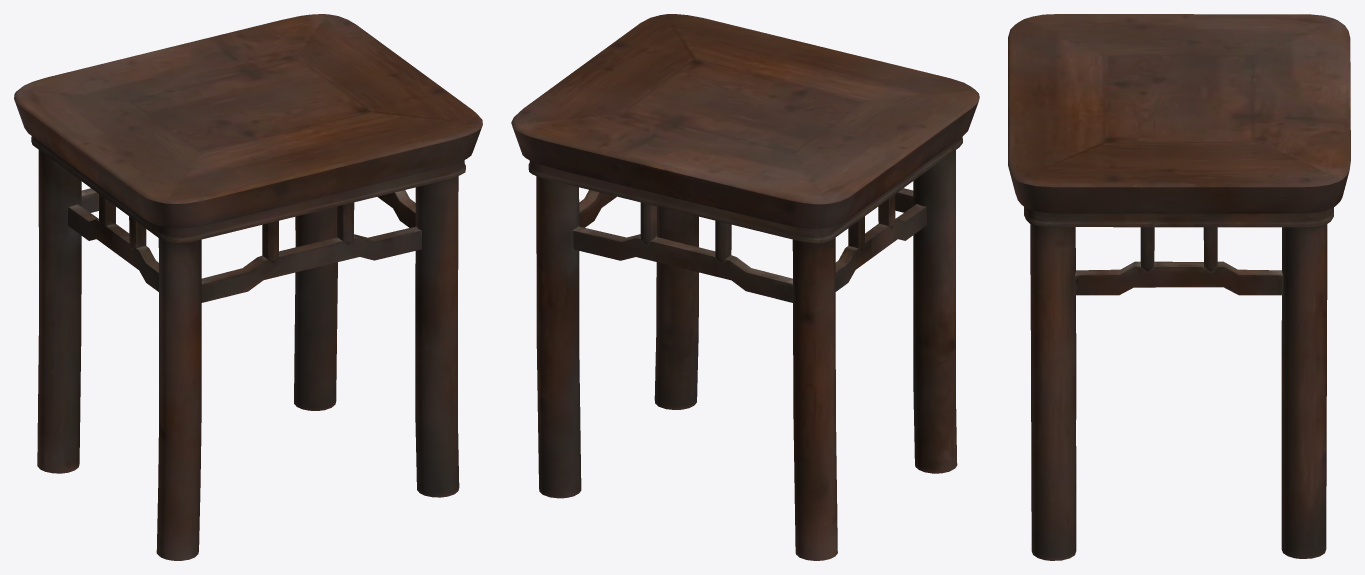
Rendered from chinese_stool.glb.
3 views of the same model, side by side, from view 1: azimuth 30°, elevation 25°; view 2: azimuth 150°, elevation 25°; view 3: azimuth 270°, elevation 25° (orthographic). The views are drawn at different scales.
Visible parts, largest first — view 1: chinese_stool; view 2: chinese_stool; view 3: chinese_stool.
Boxes of the visible parts, <box> form: chinese_stool: <box>14,14,482,560</box>; chinese_stool: <box>511,14,979,560</box>; chinese_stool: <box>1008,14,1350,560</box>.
Size of the model in its own units: 0.599 by 0.6306 by 0.5064.
Materials: 1 (1 with a texture image).
